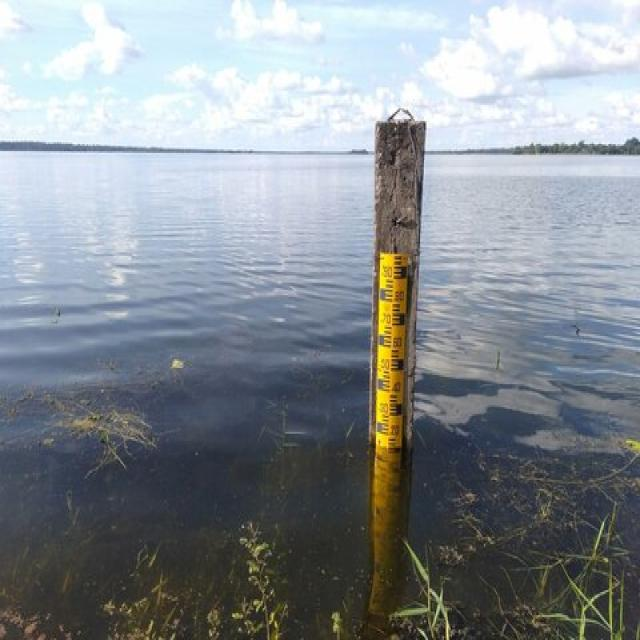staff: (376, 253, 411, 455)
